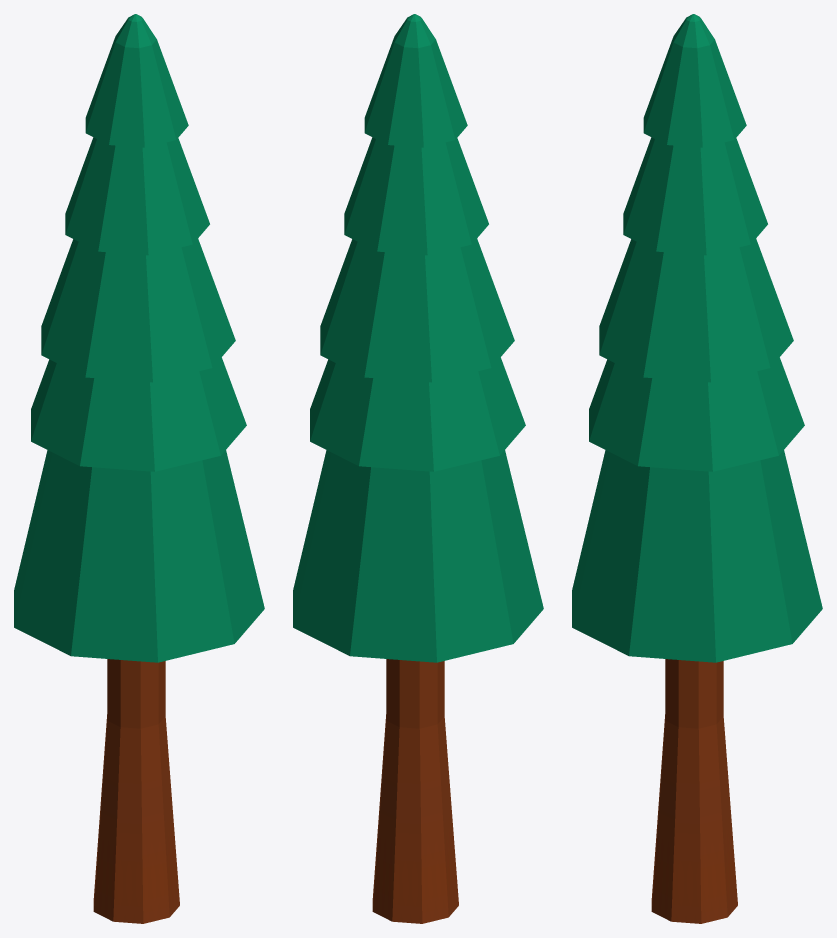
Rendered from big tree.dae.
3 views of the same model, side by side, from view 1: azimuth 30°, elevation 25°; view 2: azimuth 150°, elevation 25°; view 3: azimuth 270°, elevation 25° (orthographic).
Visible parts, largest first — view 1: big tree, big tree.004, big tree.001, big tree.005, big tree.003, big tree.002; view 2: big tree, big tree.004, big tree.001, big tree.005, big tree.003, big tree.002; view 3: big tree, big tree.004, big tree.001, big tree.005, big tree.003, big tree.002.
Part boxes in pixels (<box>): big tree: <box>14,450,264,662</box>; big tree.004: <box>41,238,235,382</box>; big tree.001: <box>93,659,179,923</box>; big tree.005: <box>31,357,246,471</box>; big tree.003: <box>65,137,209,255</box>; big tree.002: <box>85,14,188,147</box>; big tree: <box>293,450,543,662</box>; big tree.004: <box>320,238,514,382</box>; big tree.001: <box>372,659,458,923</box>; big tree.005: <box>310,357,525,471</box>; big tree.003: <box>344,137,488,255</box>; big tree.002: <box>364,14,467,147</box>; big tree: <box>572,450,822,662</box>; big tree.004: <box>599,238,793,382</box>; big tree.001: <box>651,659,737,923</box>; big tree.005: <box>589,357,804,471</box>; big tree.003: <box>623,137,767,255</box>; big tree.002: <box>643,14,746,147</box>.
Size of the model in its own units: 2.6 by 2.56 by 10.05.
1 material, 1 textured.
